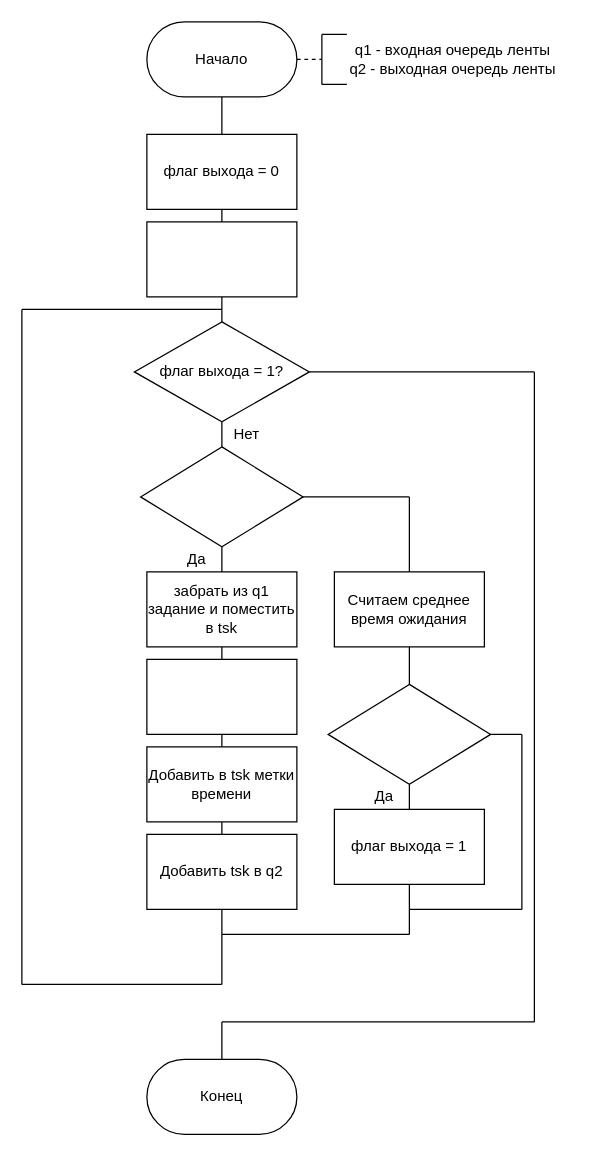
Image size: 606x1156. Some labels were removed from this diagram. The shapes that lost their labels are listed below. From the top down, each one's box as (x1, y1, x2, y2) in pixels, then its label:
(146, 221, 297, 297): среднее время ожидания = 0
(139, 446, 303, 547): в q1 есть задания?
(146, 658, 297, 734): обработать tsk
(327, 683, 491, 784): текущ. время ожид. > удвоенного среднего?
